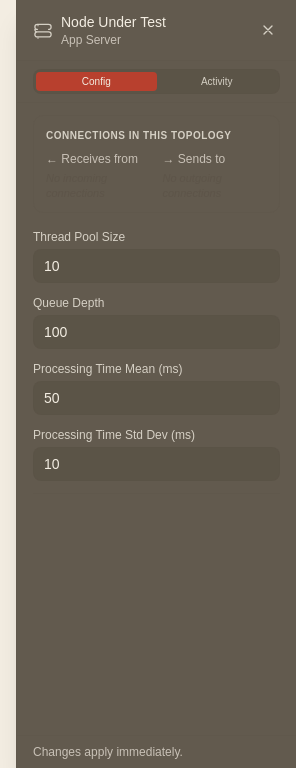
Test: NodeConfigPanel activity tab › shows real percentiles when work did complete
Click the button "Activity" at (217, 82), box [156,72,277,91]
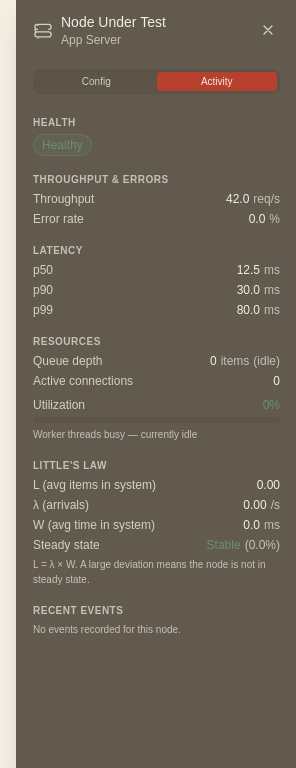
Check: the text "p50" is shown, box [33,262,53,278]
Check: the text "12.5" is shown, box [237,263,260,277]
